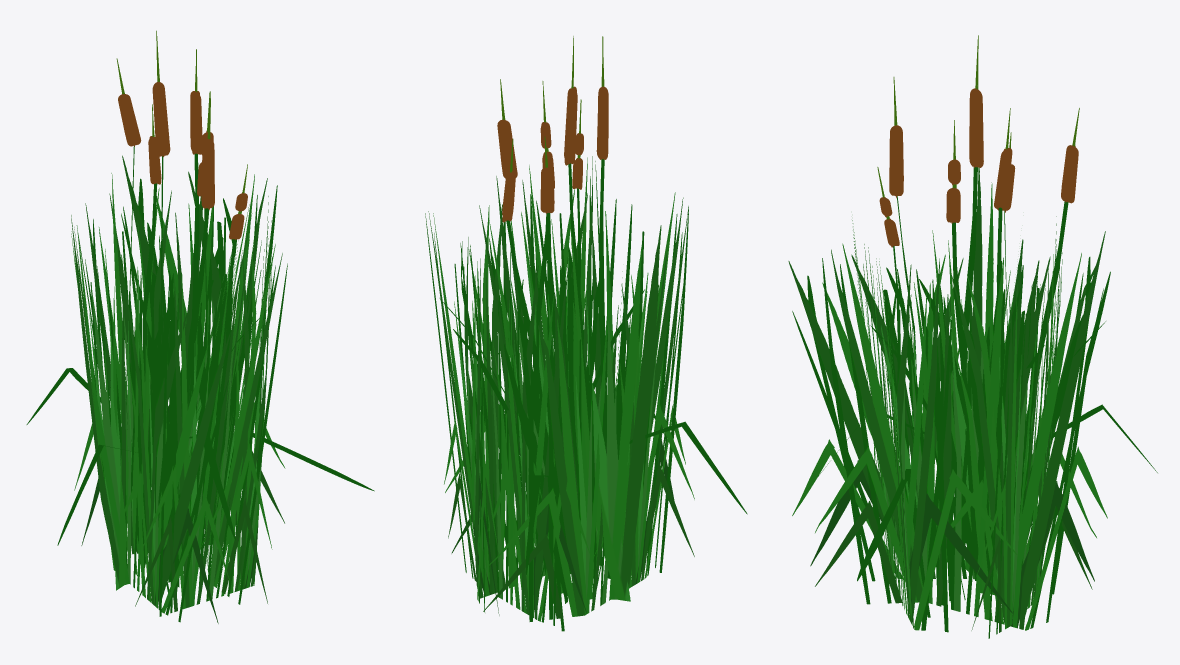
File: PT_Cattail_01.fbx
The picture shows the model from 3 angles, left to right: view 1: azimuth 30°, elevation 25°; view 2: azimuth 150°, elevation 25°; view 3: azimuth 270°, elevation 25°; orthographic projection. The views are drawn at different scales.
Visible parts, largest first — view 1: PT_Cattail_01_LOD0; view 2: PT_Cattail_01_LOD0; view 3: PT_Cattail_01_LOD0.
Boxes of the visible parts, <box> form: PT_Cattail_01_LOD0: <box>26,30,374,623</box>; PT_Cattail_01_LOD0: <box>425,36,747,631</box>; PT_Cattail_01_LOD0: <box>788,35,1157,638</box>.
Size of what is drawn, in the model's own units: 149 by 267 by 155.
